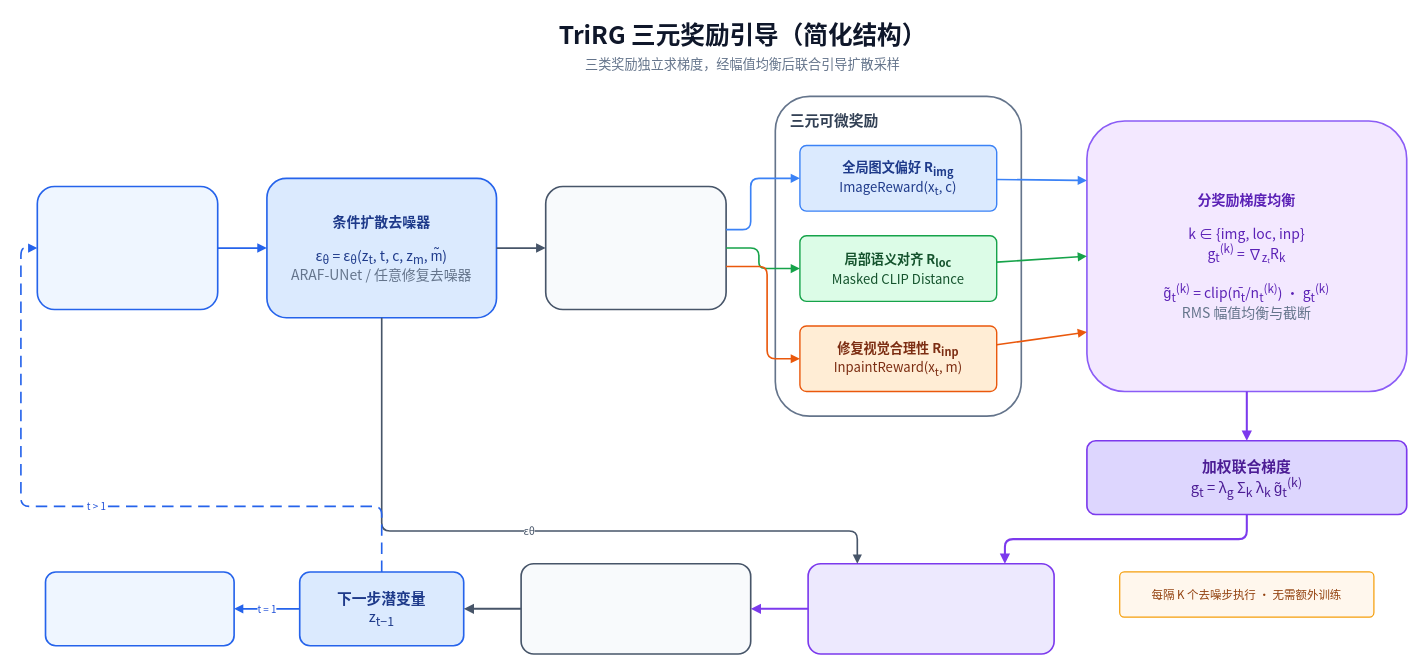
The diagram is 1421 pixels wide and 668 high, and some of its shapes have lost their labels. The centre of each missing label's shape, as x and y in pixels:
修正噪声预测 ε̂ t = ε θ − √ᾱ t · g t: [931,608]
可微图像估计 x t 调度器反演 + VAE 解码: [635,247]
最终修复结果 t = 1 时解码: [139,608]
调度器更新 z t−1 = Step(z t , ε̂ t , t): [635,608]
采样条件 潜变量 z t 、时间步 t 文本 c、修复条件 z m 与 m̃: [127,247]
